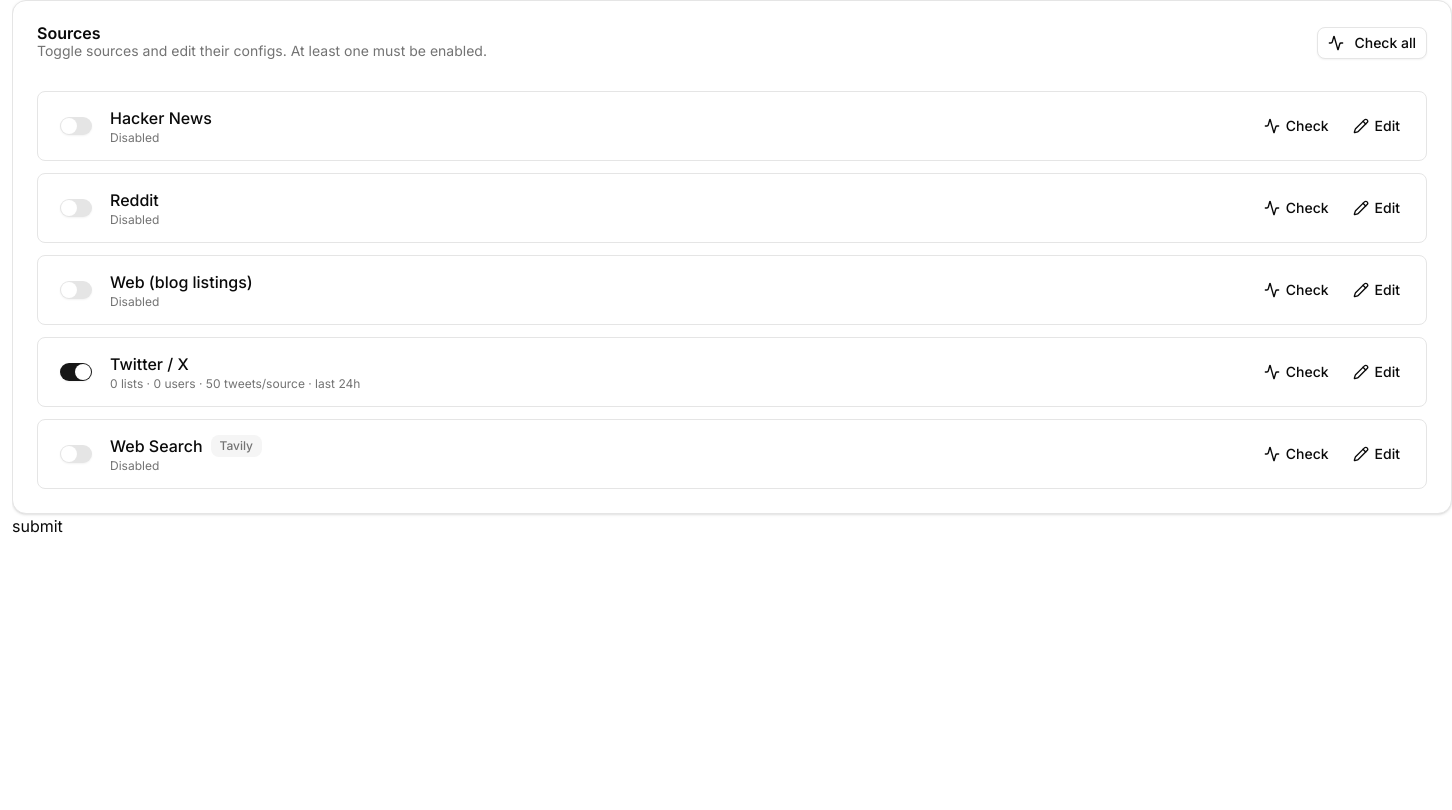
it: TwitterEditPanel rendering › REQ-040: renders Twitter section with empty list/user editors and the two scalar inputs
Click the button with aria-label "twitter / x edit". click: point(1376, 372)
box: [1343,350,1410,394]
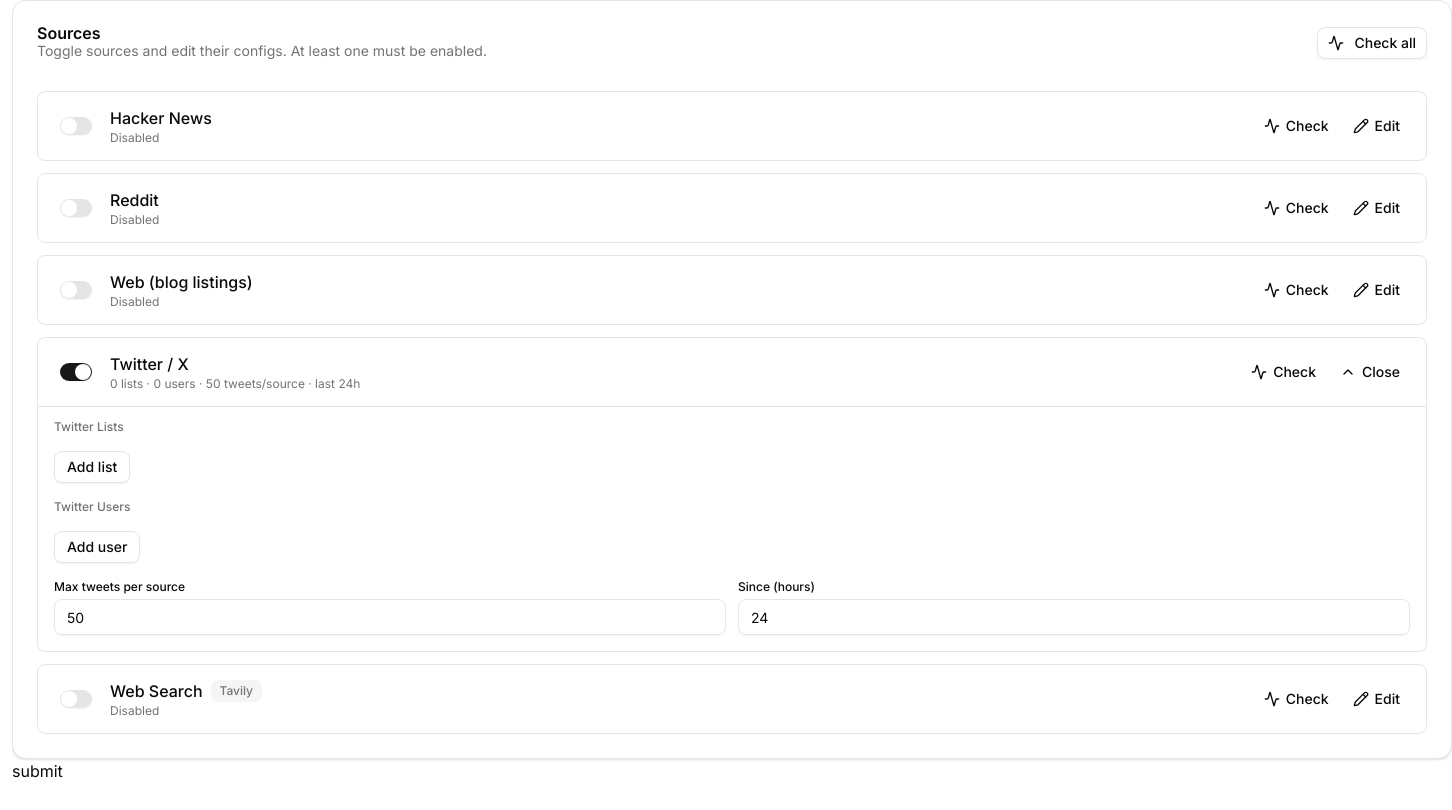
Expected: the text "Twitter Lists" is shown, [54,419,124,434]
Expected: the text "Twitter Users" is shown, [54,499,130,514]
Expected: the number field labelled "Max tweets per source" is shown, [54,599,726,635]
